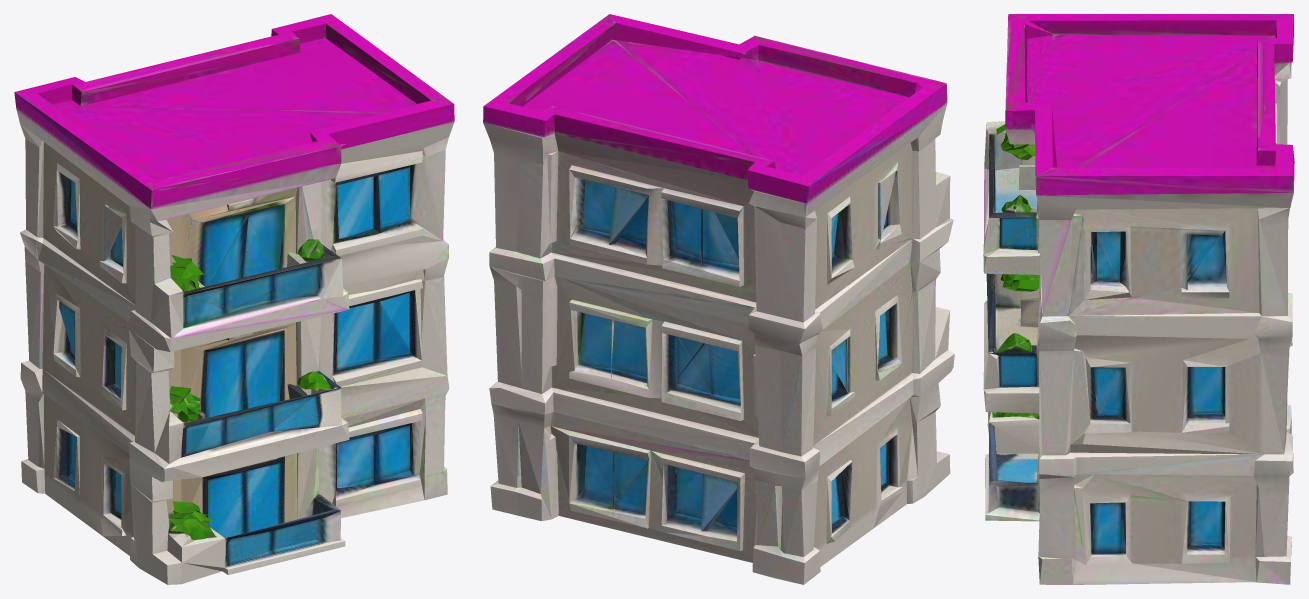
Rendered from tower2.glb.
The picture shows the model from 3 angles, left to right: view 1: azimuth 30°, elevation 25°; view 2: azimuth 150°, elevation 25°; view 3: azimuth 270°, elevation 25°; orthographic projection. The views are drawn at different scales.
Size of the model in its own units: 1.6 by 1.9 by 1.29.
1 material, 1 textured.
